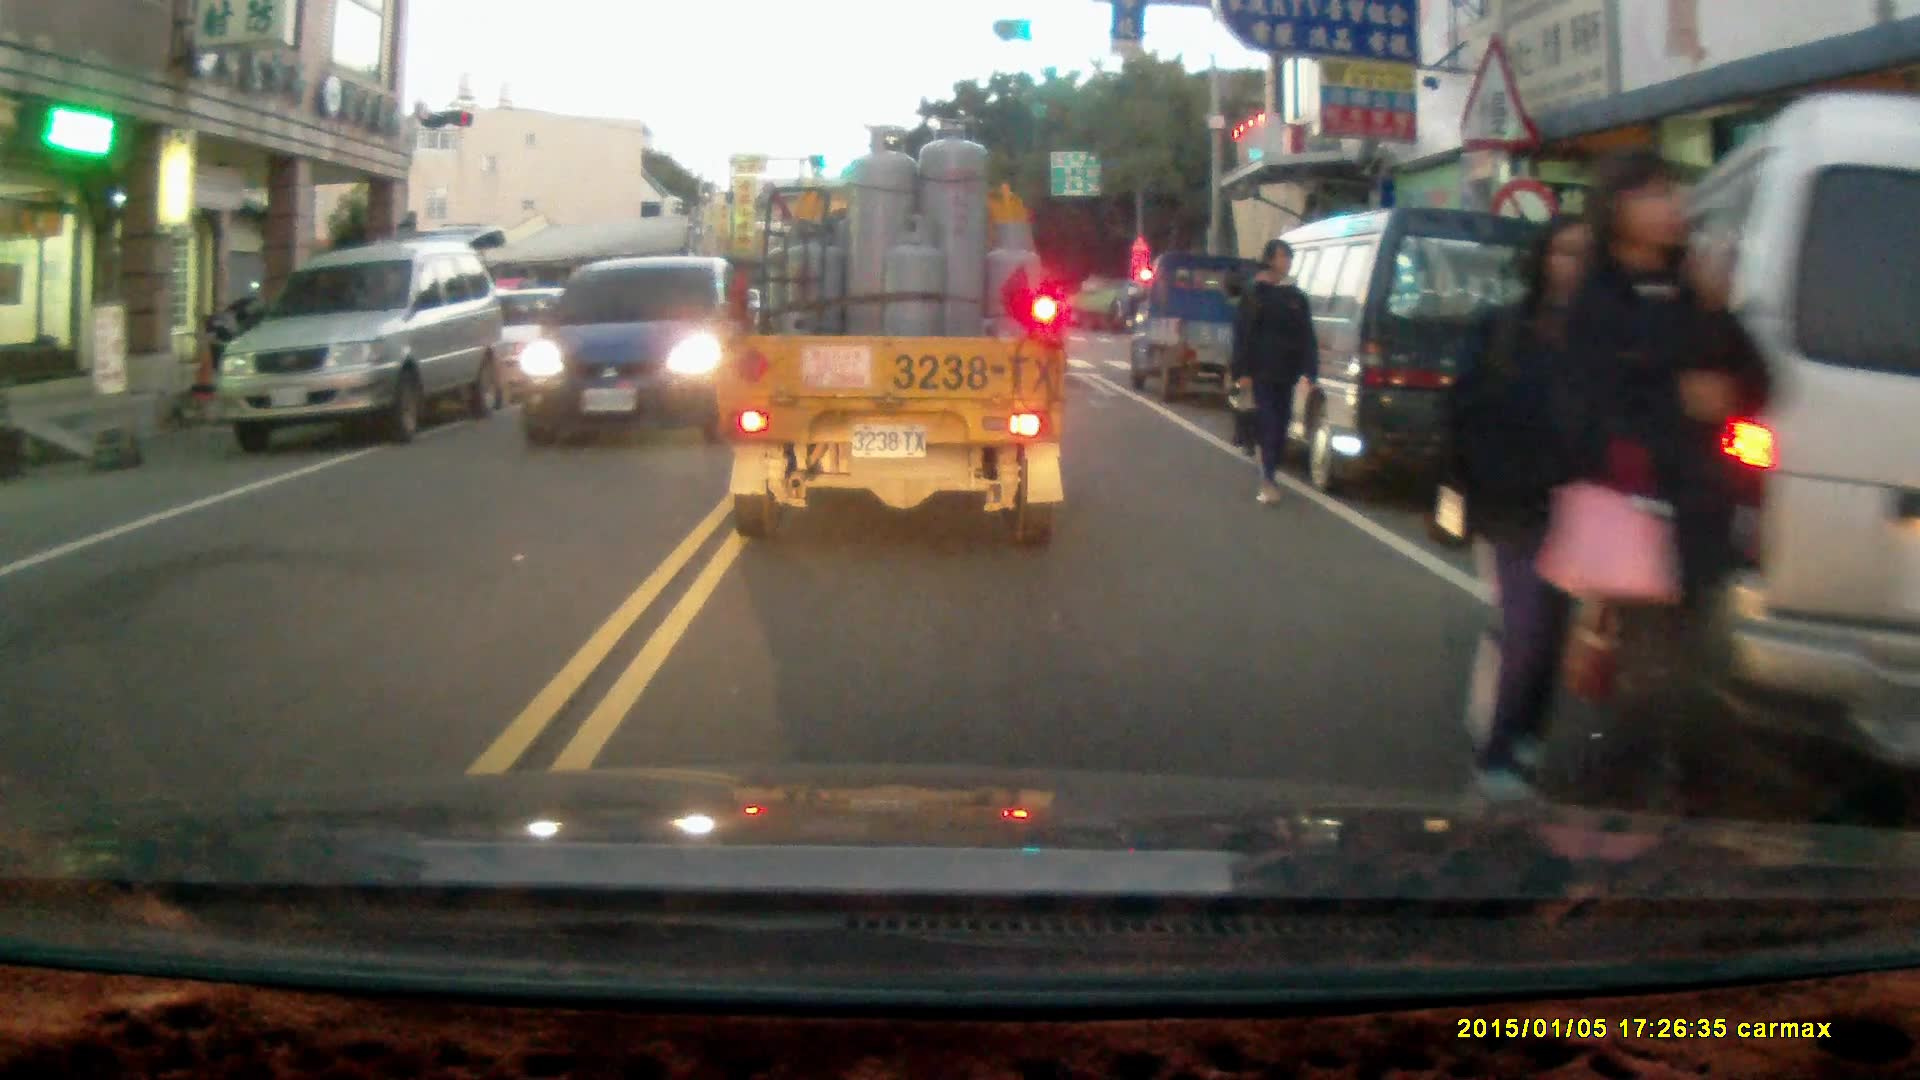pedestrian: (1551, 139, 1781, 831), (1441, 215, 1638, 838), (1231, 235, 1327, 509)
vehicle: (1607, 107, 1920, 785), (713, 121, 1071, 539), (1228, 205, 1591, 516), (222, 243, 509, 454), (514, 259, 772, 445), (433, 287, 603, 408), (1124, 249, 1247, 400)
